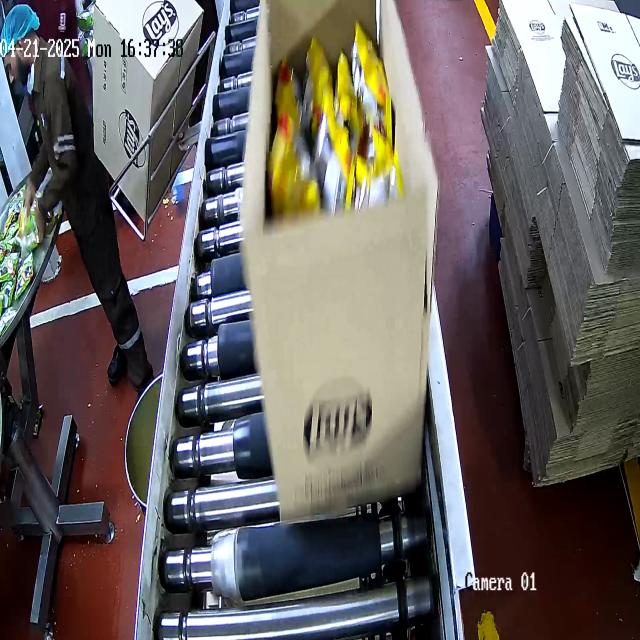SALTED: (270, 0, 395, 221)
